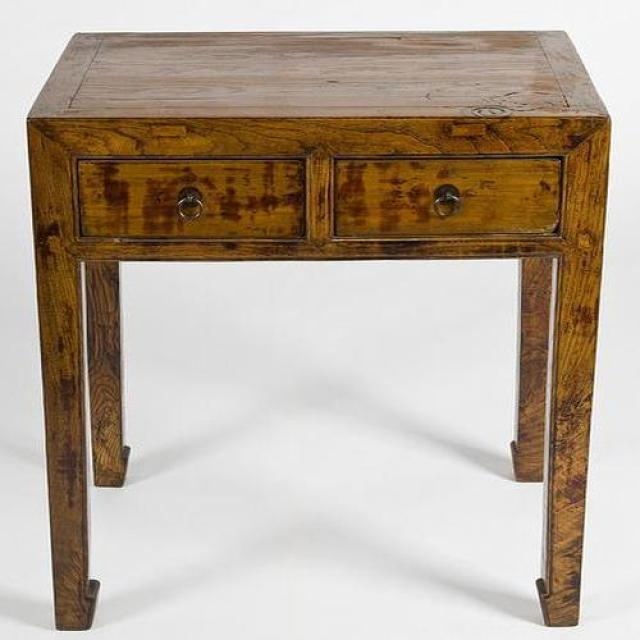table: (27, 31, 611, 632)
